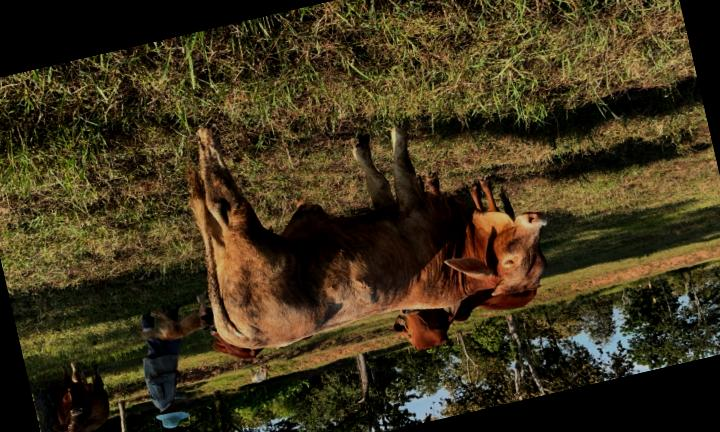Charolais: (190, 125, 547, 349)
